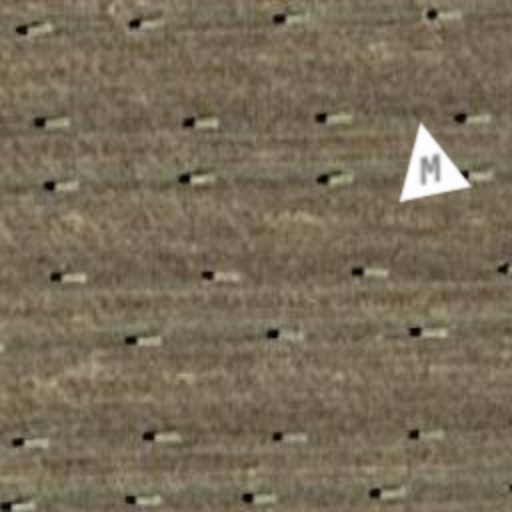triangle: (384, 114, 472, 202)
